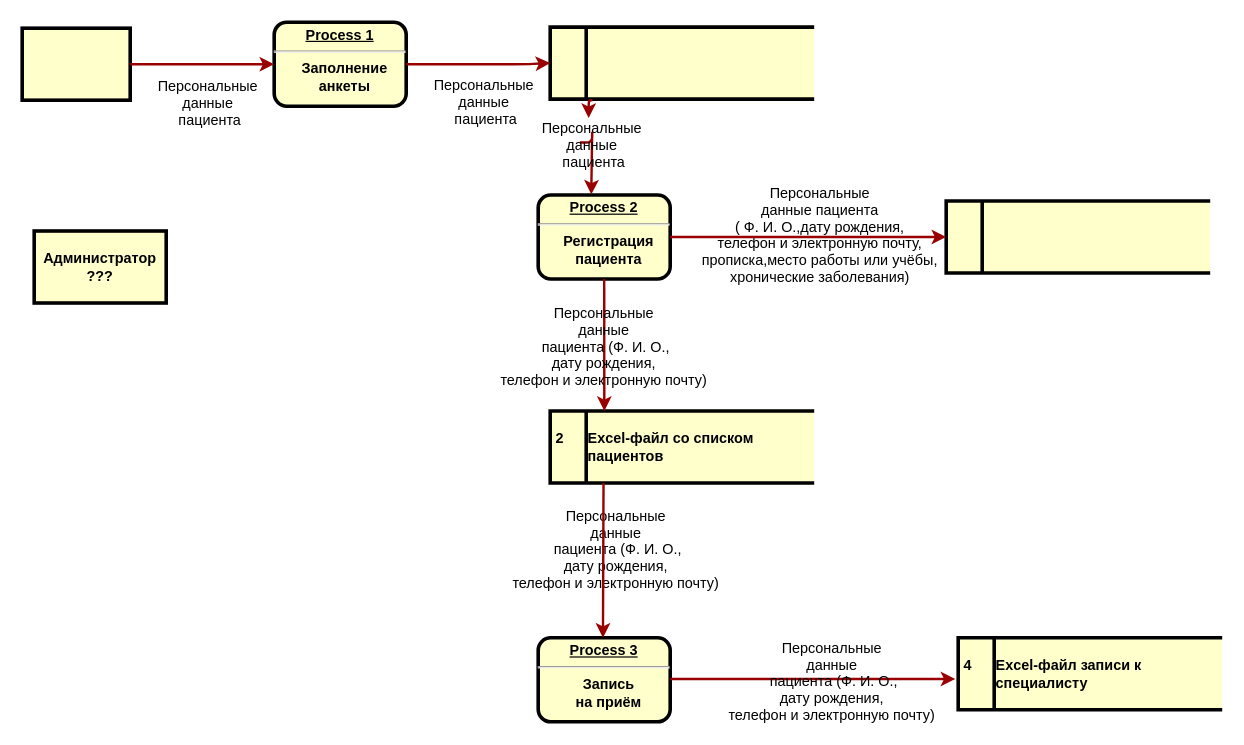
The diagram is 1244 pixels wide and 745 high, and some of its shapes have lost their labels. Here are the shapes that lost their labels. From the top down, the box of each, then its label:
(20, 26, 131, 101): Пациент
(548, 25, 815, 100): 1 Бумажная регистрационная карточка пациента
(944, 199, 1211, 274): 3 Папка с файлами пациента
